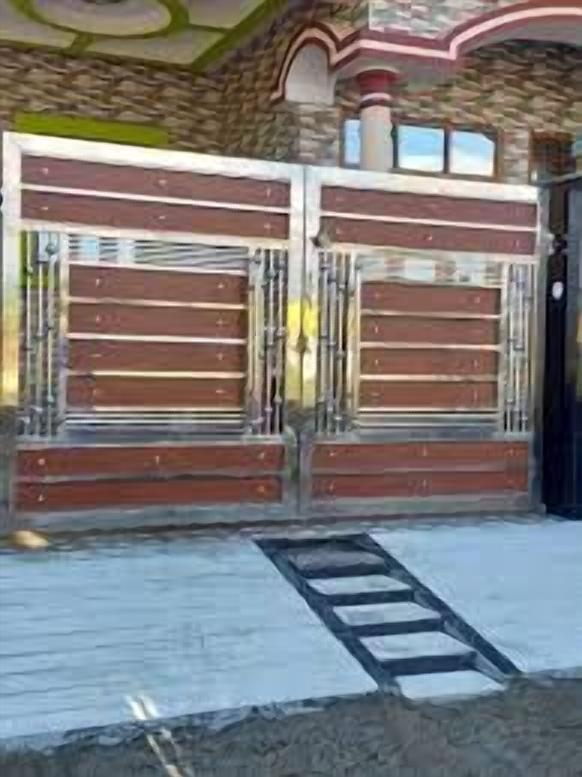Gate: (0, 131, 548, 535)
Window-without-grill: (341, 121, 497, 176)
